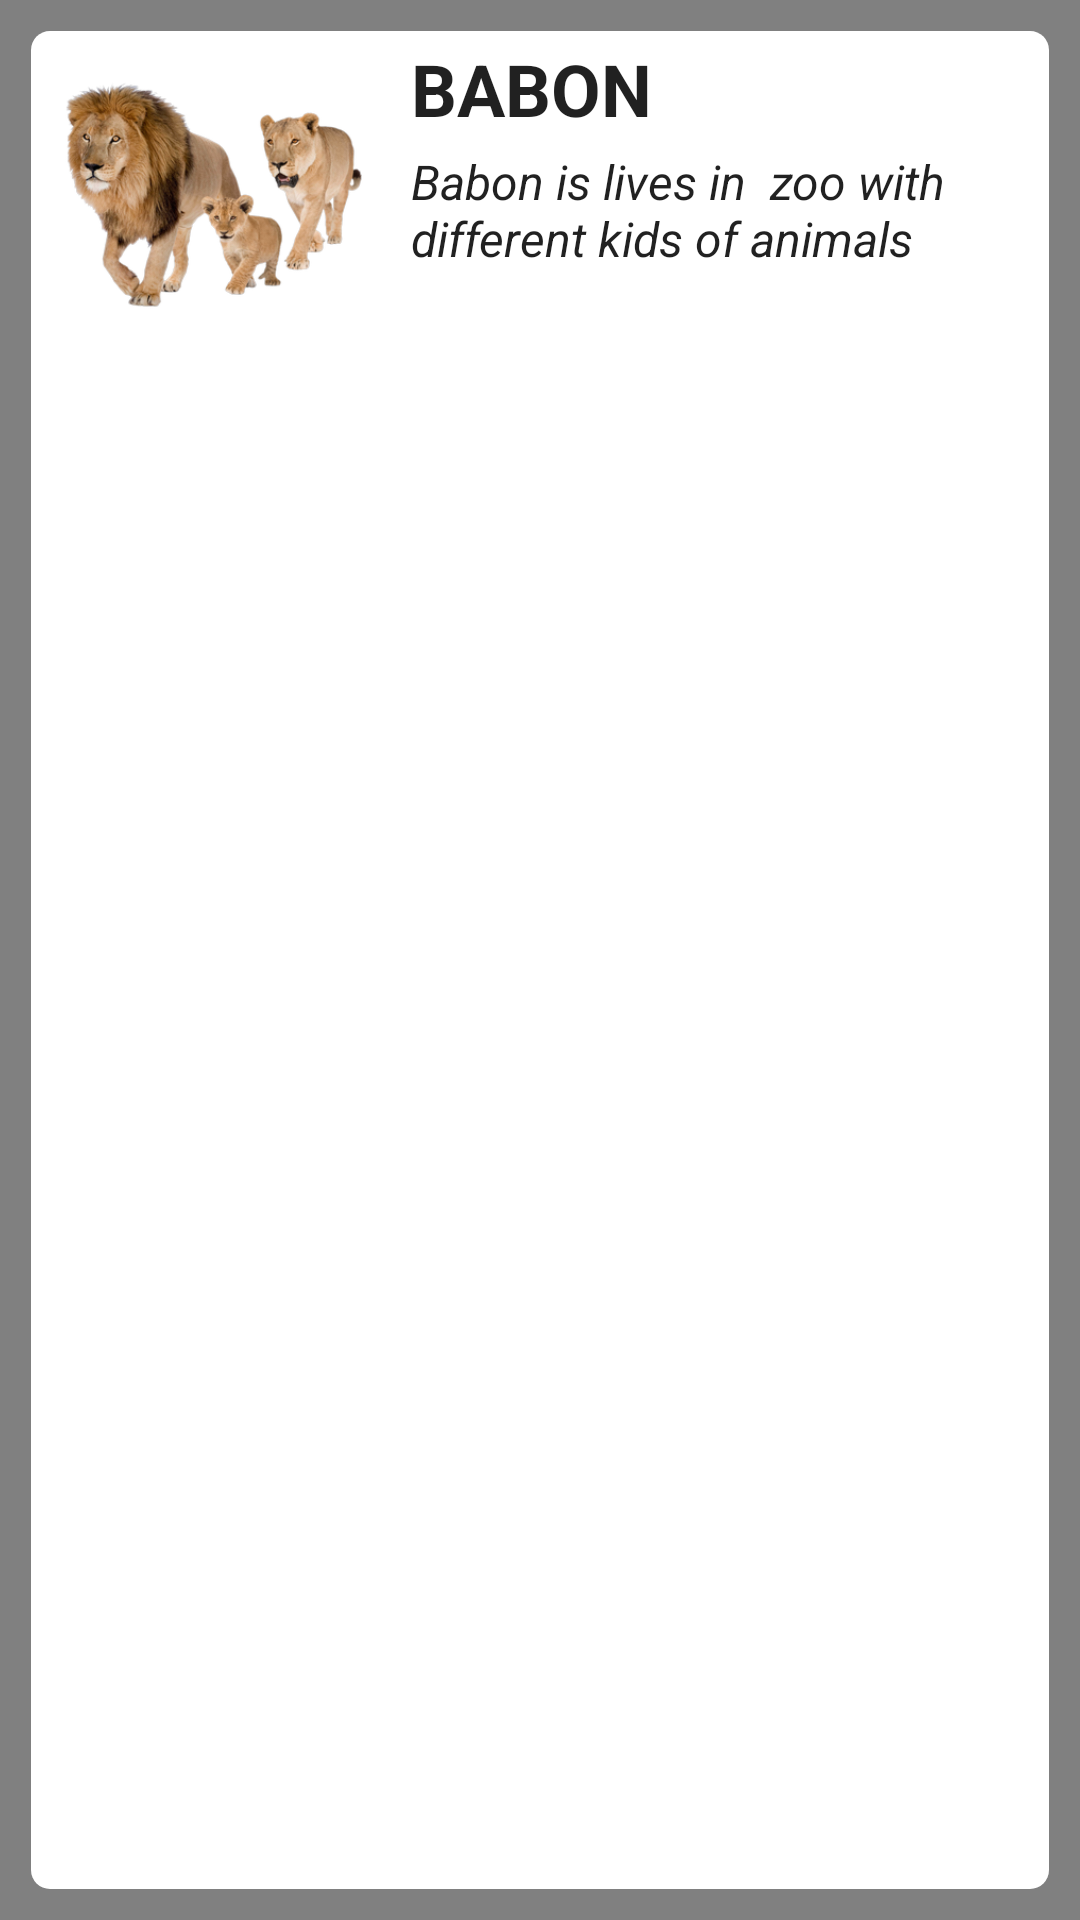

Screen size 1080×1920. Icon name, then its box in pixels as (x1, y1, x2, y2):
lion: (67, 85, 362, 307)
